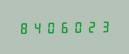eight: (17, 20, 29, 34)
four: (30, 20, 42, 34)
six: (56, 20, 68, 33)
three: (95, 19, 107, 33)
two: (82, 19, 94, 33)
zero: (43, 20, 55, 34), (69, 19, 81, 33)
